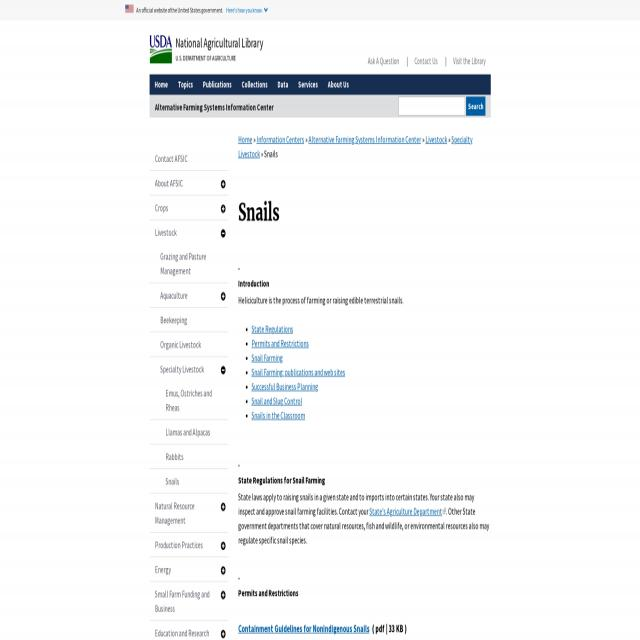button: (150, 244, 228, 283), (150, 582, 228, 621), (150, 381, 228, 419), (150, 494, 228, 532), (150, 146, 228, 171), (150, 332, 228, 357), (150, 557, 228, 582), (150, 171, 228, 195), (150, 196, 228, 220), (150, 220, 228, 244), (150, 283, 228, 307), (150, 308, 228, 332), (150, 357, 228, 381), (150, 420, 228, 444), (150, 445, 228, 469), (150, 469, 228, 493), (150, 533, 228, 557), (362, 48, 404, 74), (448, 48, 490, 74), (409, 48, 443, 74), (198, 74, 236, 95), (236, 74, 272, 95), (150, 34, 172, 64), (322, 74, 353, 95), (293, 74, 323, 95), (172, 74, 198, 95), (149, 74, 173, 95), (273, 74, 293, 95), (466, 96, 485, 115), (125, 4, 133, 12)
field: (398, 96, 465, 115)
